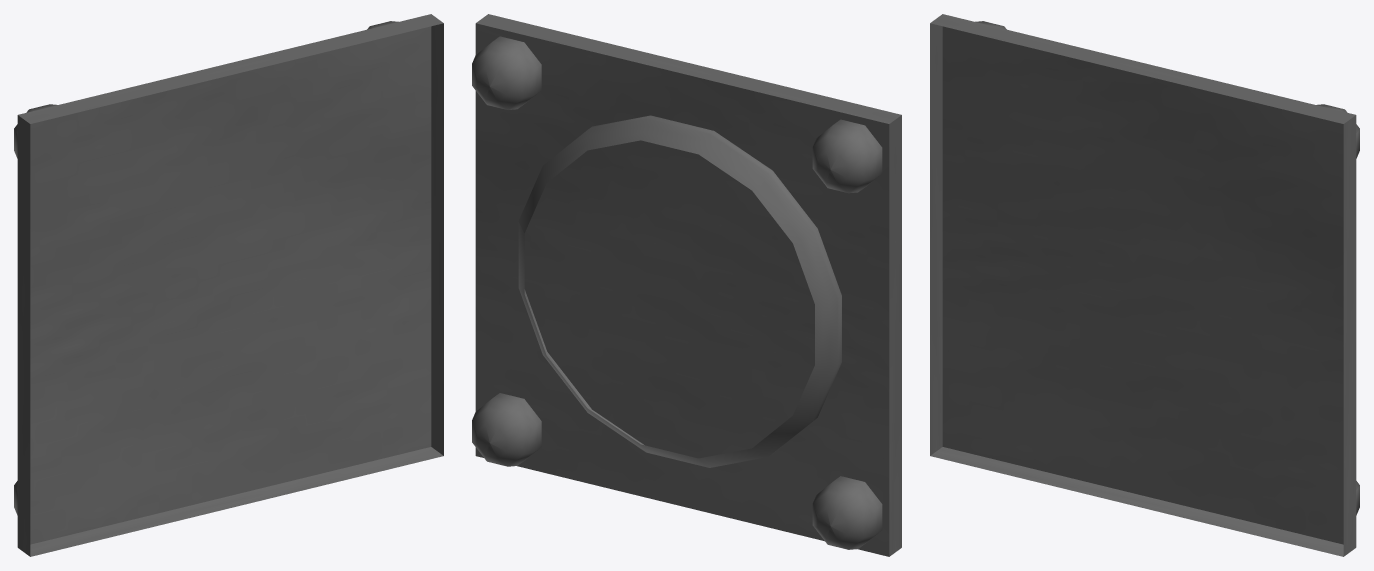
Rendered from polebase_impact_square.obj.
3 renders of one model, left to right at view 1: azimuth 30°, elevation 25°; view 2: azimuth 150°, elevation 25°; view 3: azimuth 330°, elevation 25°, orthographic.
Parts seen in each view (by area): view 1: polebase_impact_square; view 2: polebase_impact_square; view 3: polebase_impact_square.
Boxes of the visible parts, x1=… form: polebase_impact_square: x1=14, y1=14, x2=443, y2=556; polebase_impact_square: x1=472, y1=14, x2=901, y2=556; polebase_impact_square: x1=930, y1=14, x2=1359, y2=556.
Bounding box in the file's own units: 1.4 × 1.4 × 0.2056.
